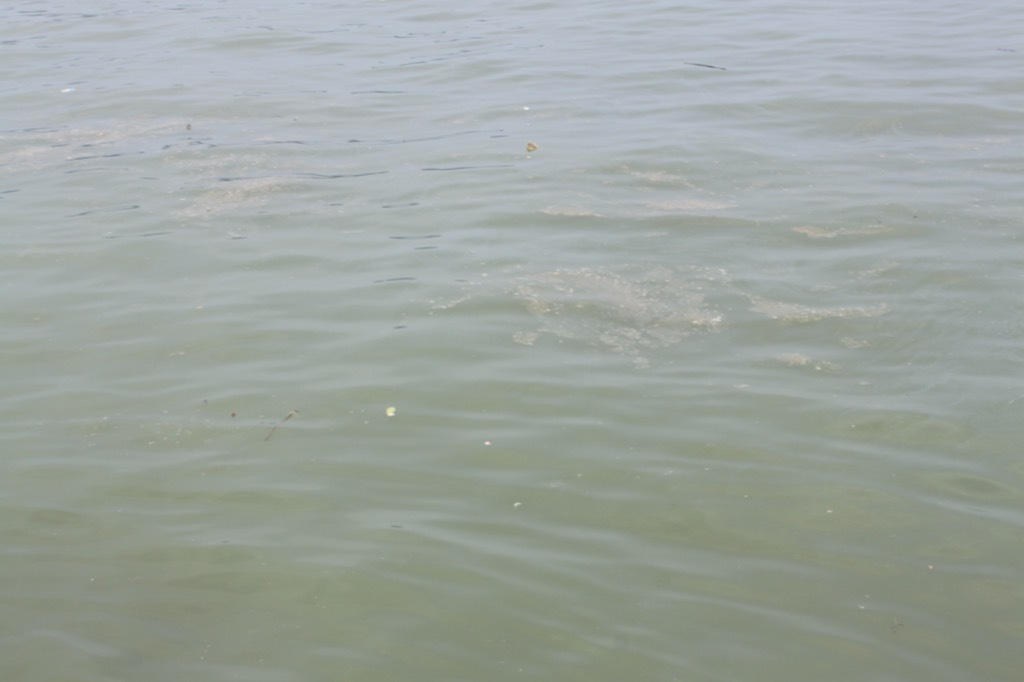organic: (261, 401, 311, 448), (670, 52, 745, 82), (196, 390, 218, 412), (224, 405, 243, 426)
plastic: (374, 393, 404, 433), (512, 133, 547, 161), (51, 77, 82, 101), (518, 99, 539, 120)
